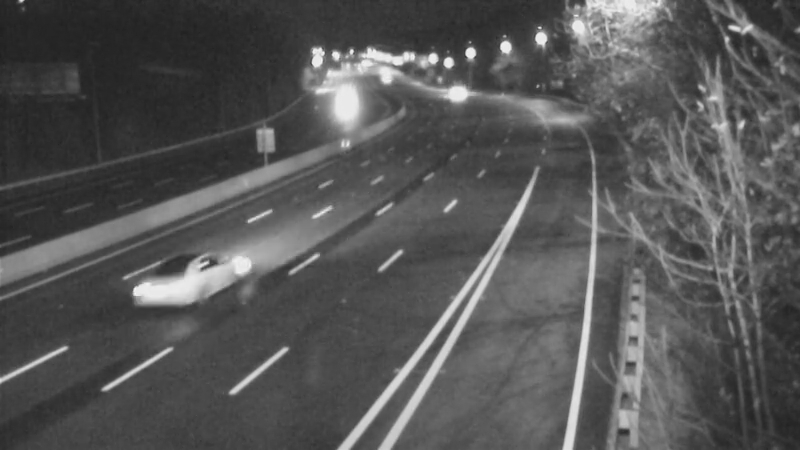vehicle: (131, 249, 211, 329), (359, 55, 409, 105), (432, 67, 482, 117), (319, 78, 369, 128)
